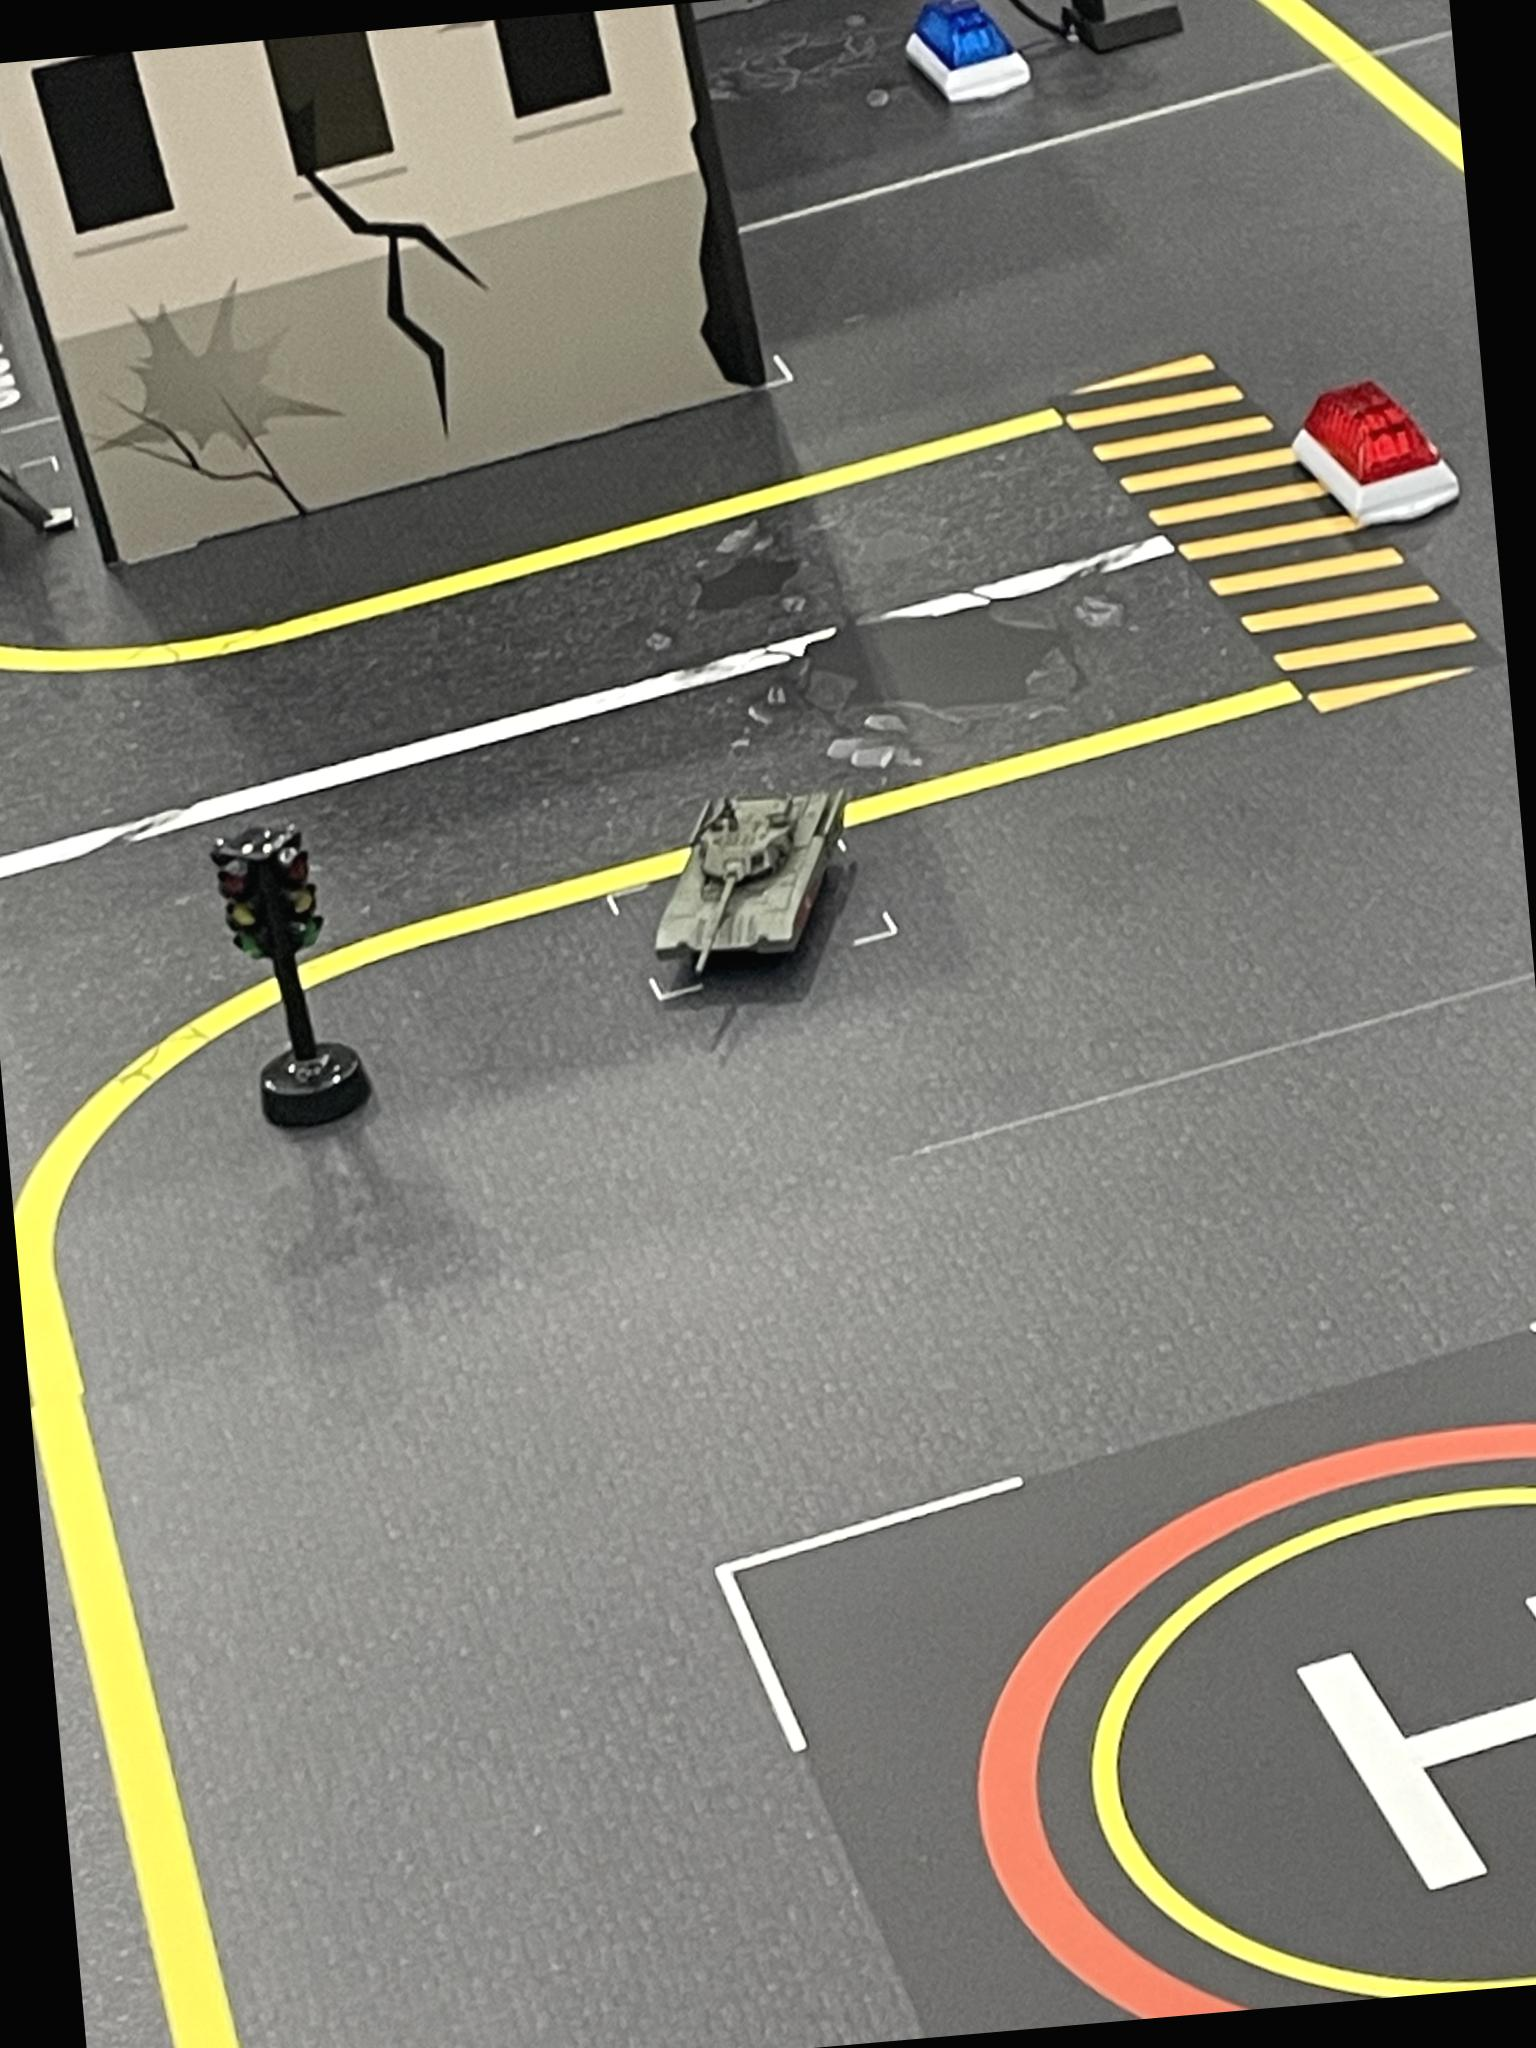Mortar: (0, 318, 74, 552)
Tank: (620, 768, 865, 998)
